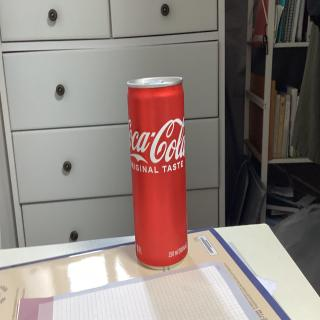cocacola: (126, 72, 193, 275)
